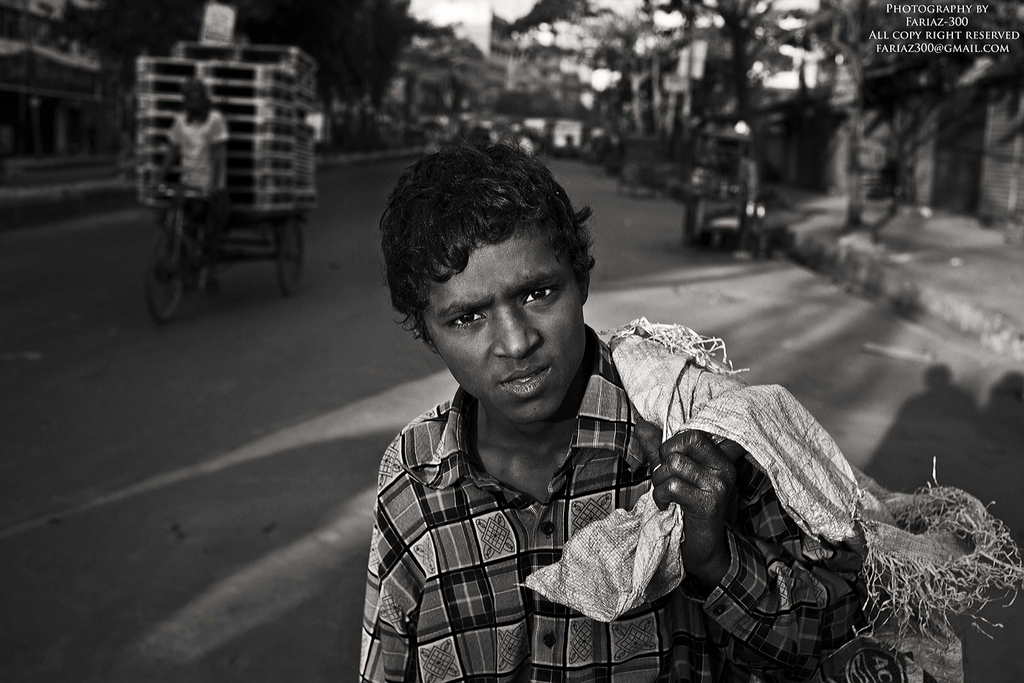Person: (359, 126, 862, 683), (151, 80, 230, 300)
